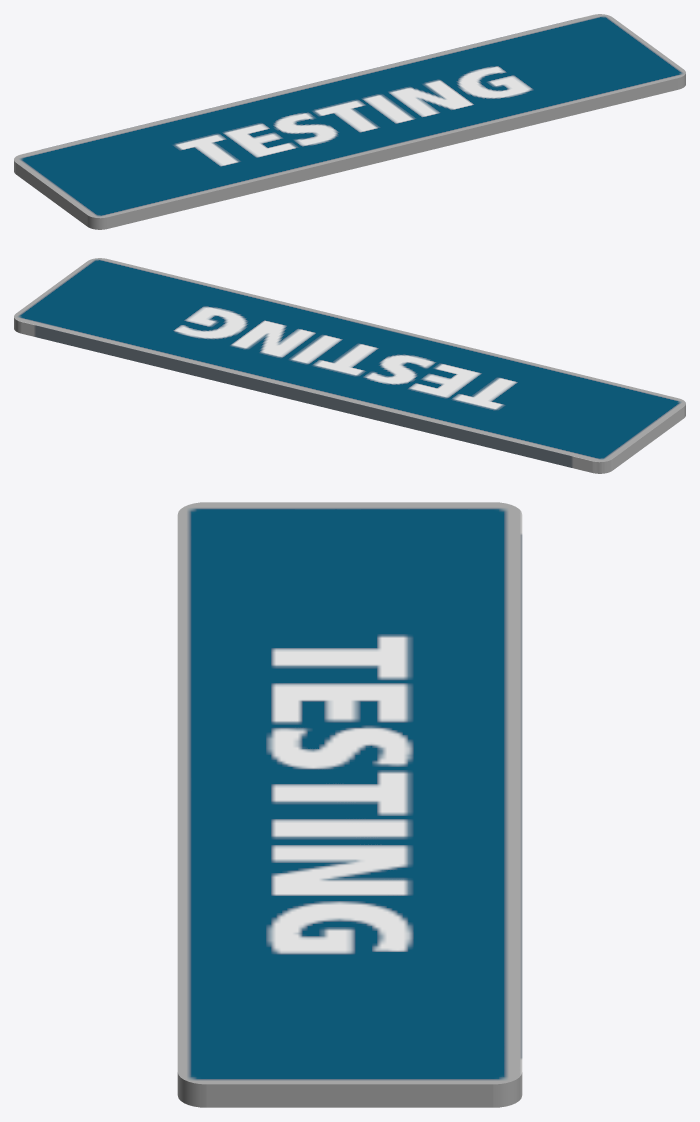
The model's file is testingSign.fbx.
3 renders of one model, top to bottom at view 1: azimuth 30°, elevation 25°; view 2: azimuth 150°, elevation 25°; view 3: azimuth 270°, elevation 25°, orthographic. The views are drawn at different scales.
Parts seen in each view (by area): view 1: Rectangle001; view 2: Rectangle001; view 3: Rectangle001.
Boxes of the visible parts, x1,y1,x2,y2 form: Rectangle001: [14, 14, 685, 229]; Rectangle001: [14, 258, 685, 473]; Rectangle001: [177, 502, 522, 1107].
Bounding box in the file's own units: 10 × 0.1875 × 2.5.
Materials: 1 (1 with a texture image).
